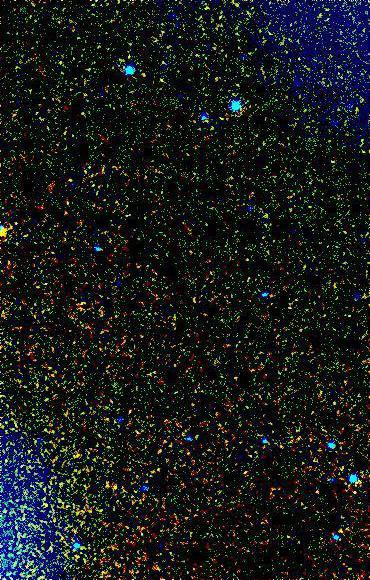star: (337, 479, 367, 509)
